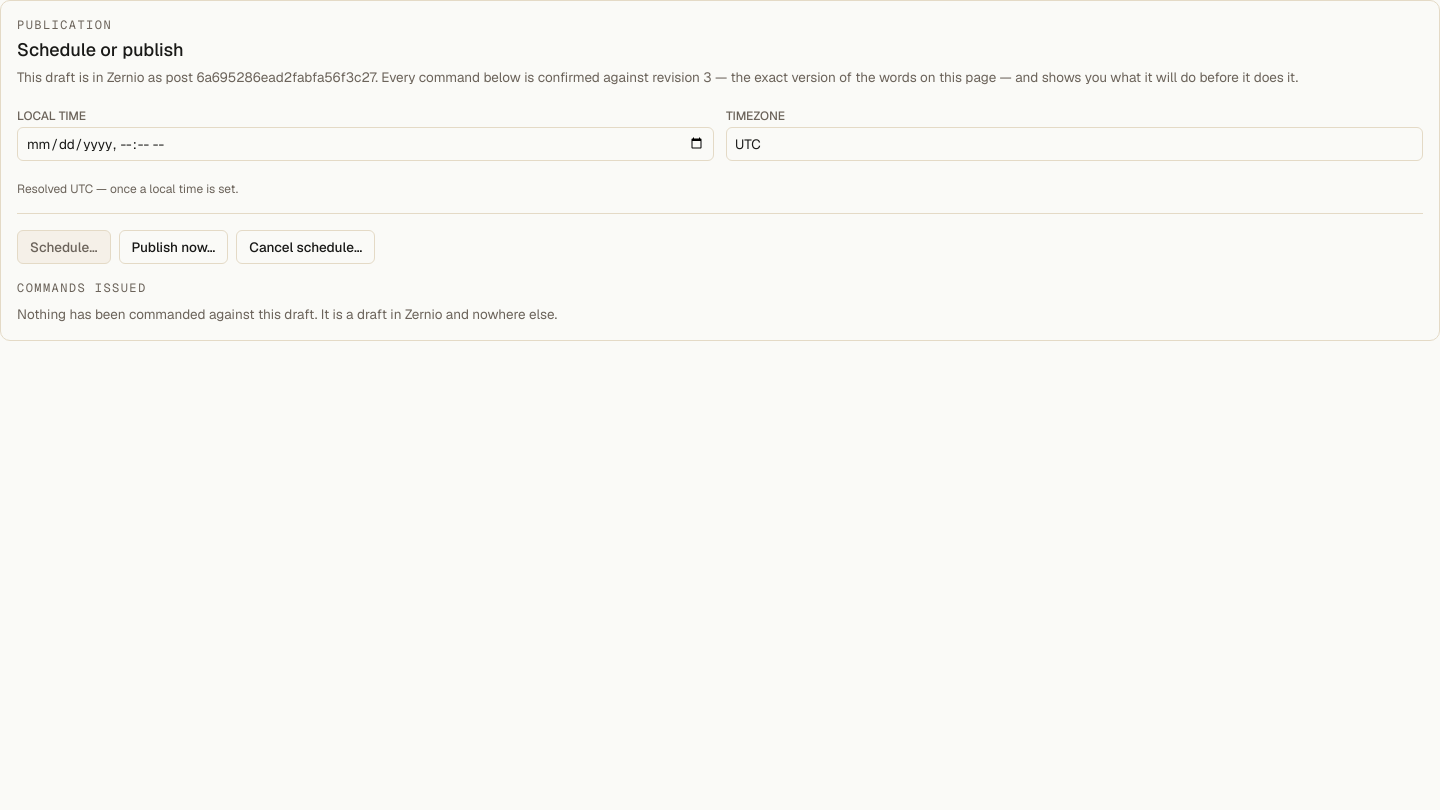
Scenario: the confirmation step › sends nothing when the confirmation is dismissed
Click the button "Publish now…". click: click(173, 247)
box: [118,230,228,264]
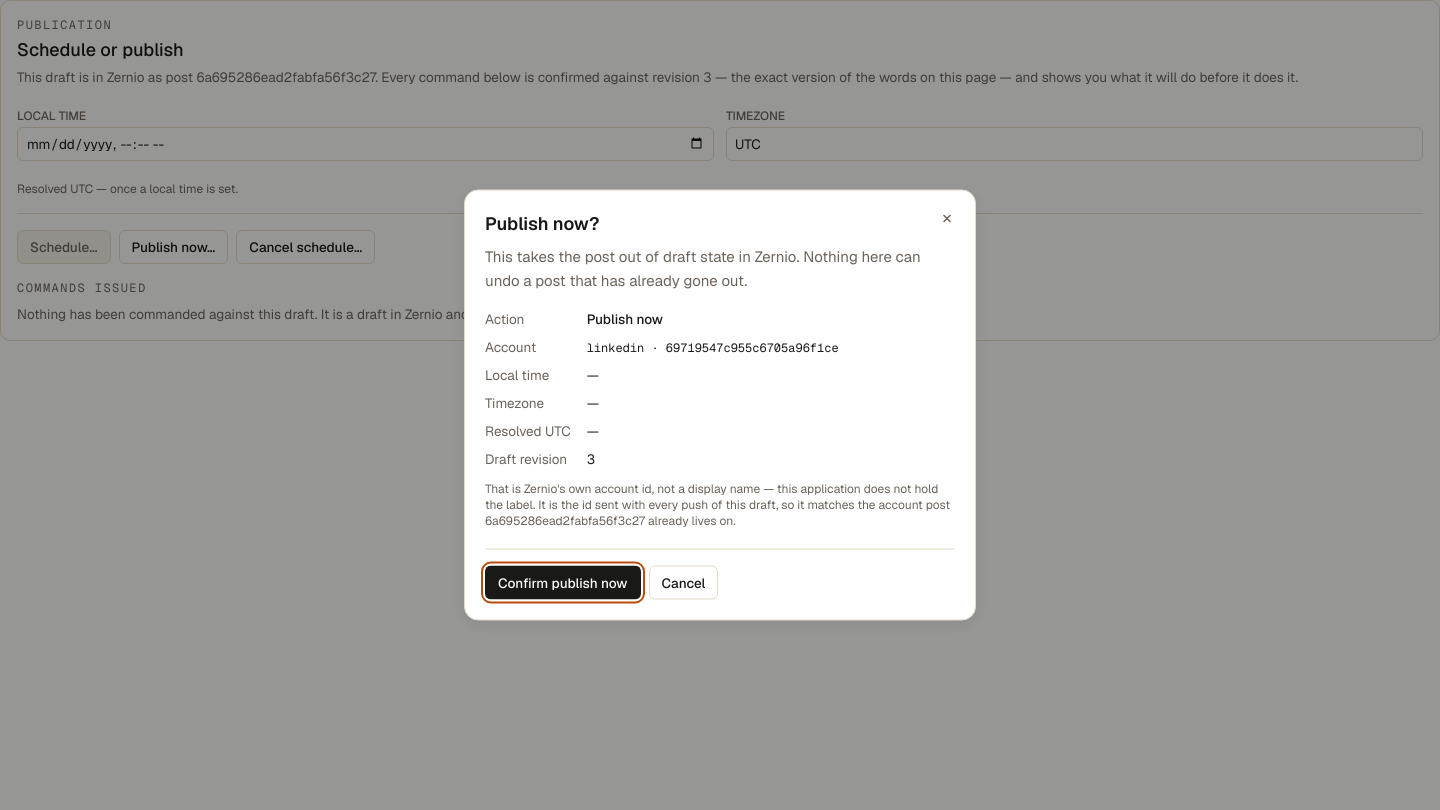
Click the button "Cancel". click: click(683, 582)
box: [648,566,718,600]
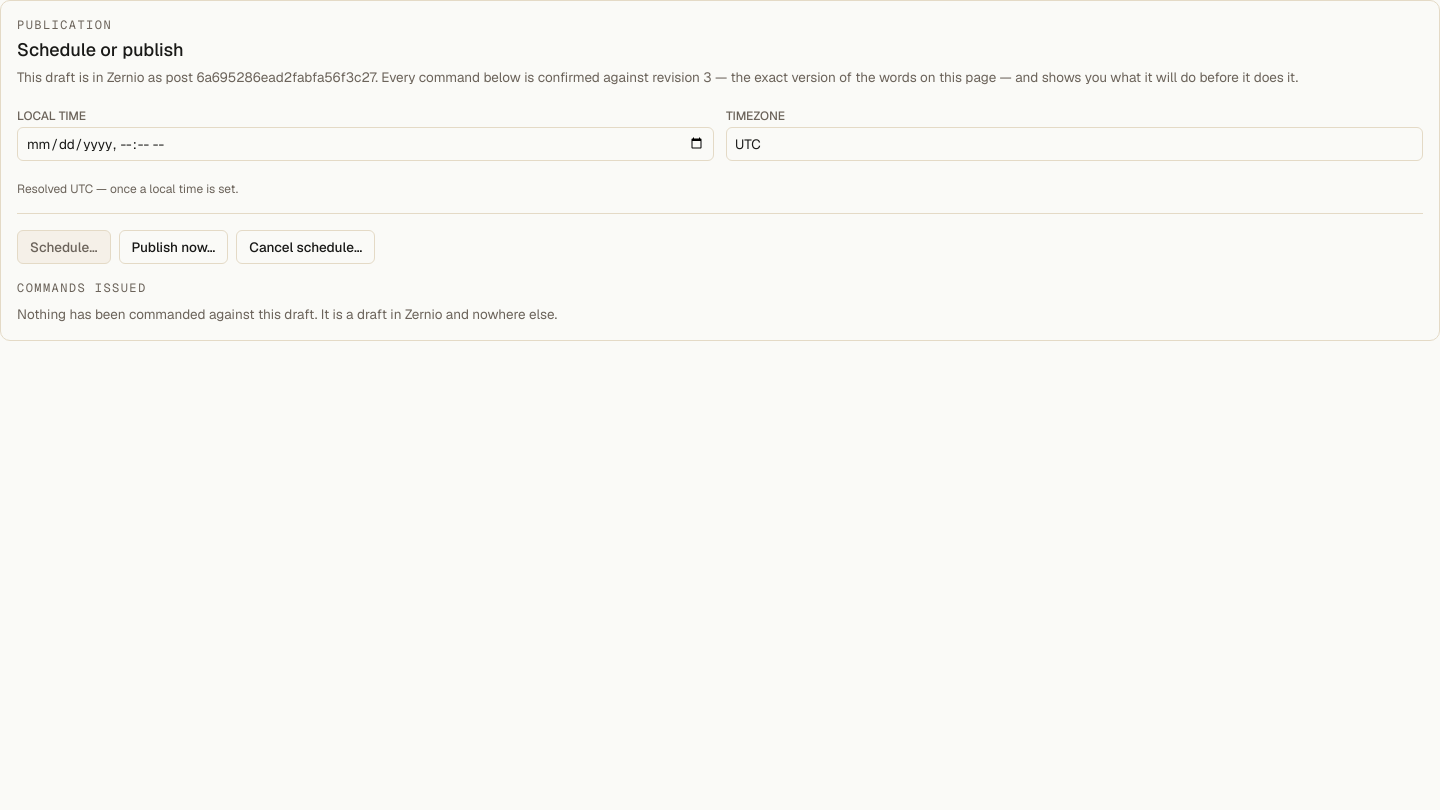
expect the dialog is gone: met
